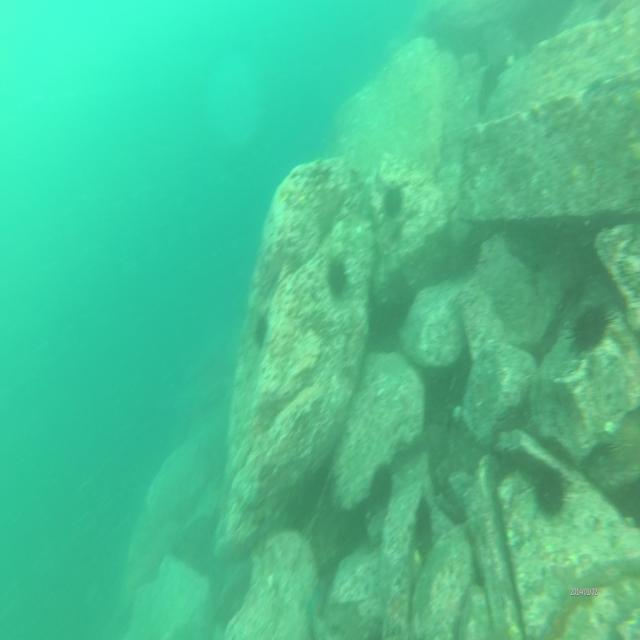echinus: (568, 296, 622, 361), (605, 414, 640, 475), (533, 469, 565, 516), (367, 462, 393, 518), (412, 499, 434, 562), (325, 257, 349, 302), (381, 181, 403, 223), (254, 311, 268, 353)
